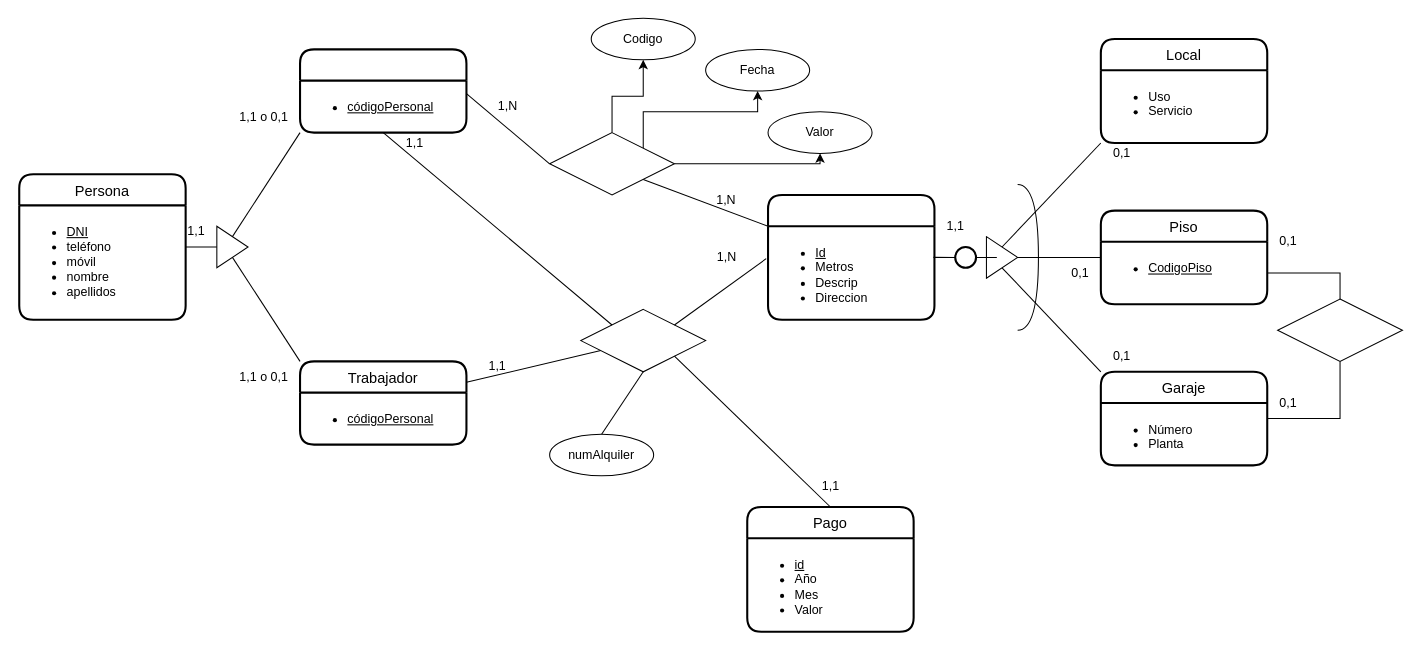
Some shapes in this 1421 by 651 pixel diagram are drawn without their labels. The box of each missing label's shape, as (x1, y1, x2, y2) in pixels:
Alquilar: (580, 308, 706, 372)
Cliente: (298, 48, 467, 133)
Compra: (549, 132, 674, 195)
Incluye: (1277, 298, 1402, 361)
Inmueble: (766, 193, 935, 320)
